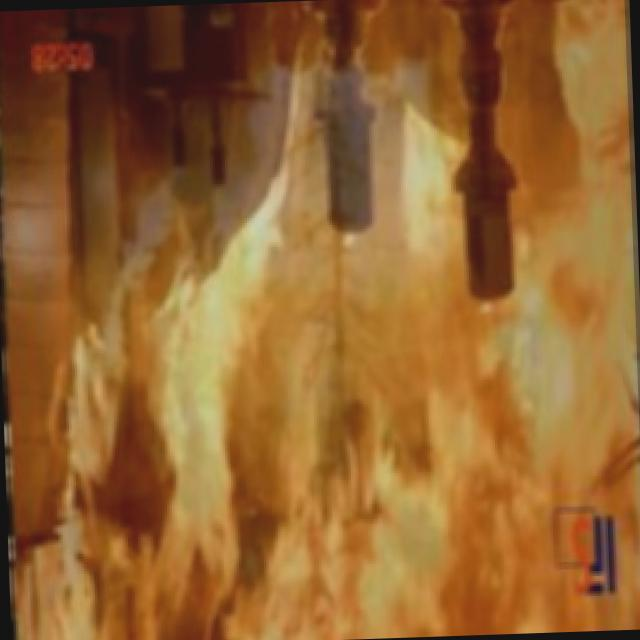fire: (5, 81, 640, 640)
